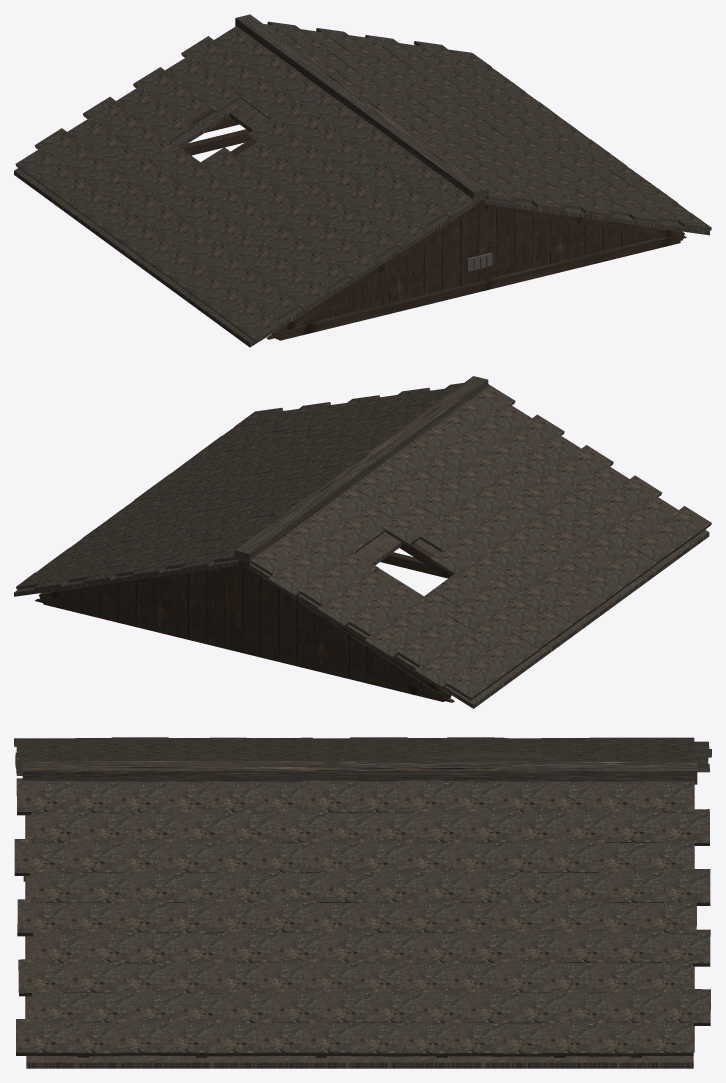
Rendered from blacksmith_roof_preview.glb.
The picture shows the model from 3 angles, top to bottom: view 1: azimuth 30°, elevation 25°; view 2: azimuth 150°, elevation 25°; view 3: azimuth 270°, elevation 25°; orthographic projection. The views are drawn at different scales.
Visible parts, largest first — view 1: GENESIS_BATCH_Herrero roof · oxidized hand-split slate P, GENESIS_BATCH_Herrero roof · smoked slate PBR, GENESIS_BATCH_Herrero roof · old dark oak PBR, GENESIS_BATCH_Herrero roof · aged slate highlight PBR, GENESIS_BATCH_Herrero roof · blackened roof underlay PBR; view 2: GENESIS_BATCH_Herrero roof · oxidized hand-split slate P, GENESIS_BATCH_Herrero roof · smoked slate PBR, GENESIS_BATCH_Herrero roof · old dark oak PBR, GENESIS_BATCH_Herrero roof · aged slate highlight PBR, GENESIS_BATCH_Herrero roof · blackened roof underlay PBR; view 3: GENESIS_BATCH_Herrero roof · oxidized hand-split slate P, GENESIS_BATCH_Herrero roof · smoked slate PBR, GENESIS_BATCH_Herrero roof · aged slate highlight PBR, GENESIS_BATCH_Herrero roof · blackened roof underlay PBR.
Part boxes in pixels (<box>): GENESIS_BATCH_Herrero roof · oxidized hand-split slate P: <box>32,21,711,342</box>; GENESIS_BATCH_Herrero roof · smoked slate PBR: <box>81,14,661,320</box>; GENESIS_BATCH_Herrero roof · old dark oak PBR: <box>38,110,686,340</box>; GENESIS_BATCH_Herrero roof · aged slate highlight PBR: <box>15,26,656,252</box>; GENESIS_BATCH_Herrero roof · blackened roof underlay PBR: <box>14,99,709,347</box>; GENESIS_BATCH_Herrero roof · oxidized hand-split slate P: <box>16,384,711,689</box>; GENESIS_BATCH_Herrero roof · smoked slate PBR: <box>68,376,680,655</box>; GENESIS_BATCH_Herrero roof · old dark oak PBR: <box>35,542,559,702</box>; GENESIS_BATCH_Herrero roof · aged slate highlight PBR: <box>51,383,593,700</box>; GENESIS_BATCH_Herrero roof · blackened roof underlay PBR: <box>14,529,709,708</box>; GENESIS_BATCH_Herrero roof · oxidized hand-split slate P: <box>14,737,711,1056</box>; GENESIS_BATCH_Herrero roof · smoked slate PBR: <box>15,737,697,1056</box>; GENESIS_BATCH_Herrero roof · aged slate highlight PBR: <box>16,737,694,1055</box>; GENESIS_BATCH_Herrero roof · blackened roof underlay PBR: <box>26,757,693,1068</box>.
Size of the model in its own units: 8.65 by 1.87 by 8.04.
6 materials, 5 textured.
